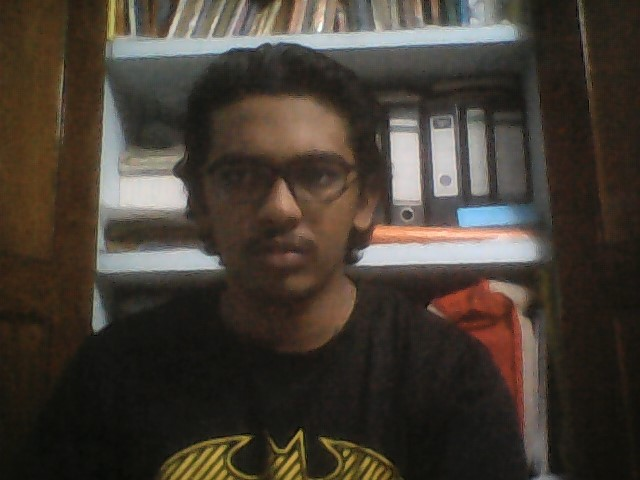person: (40, 44, 531, 467)
